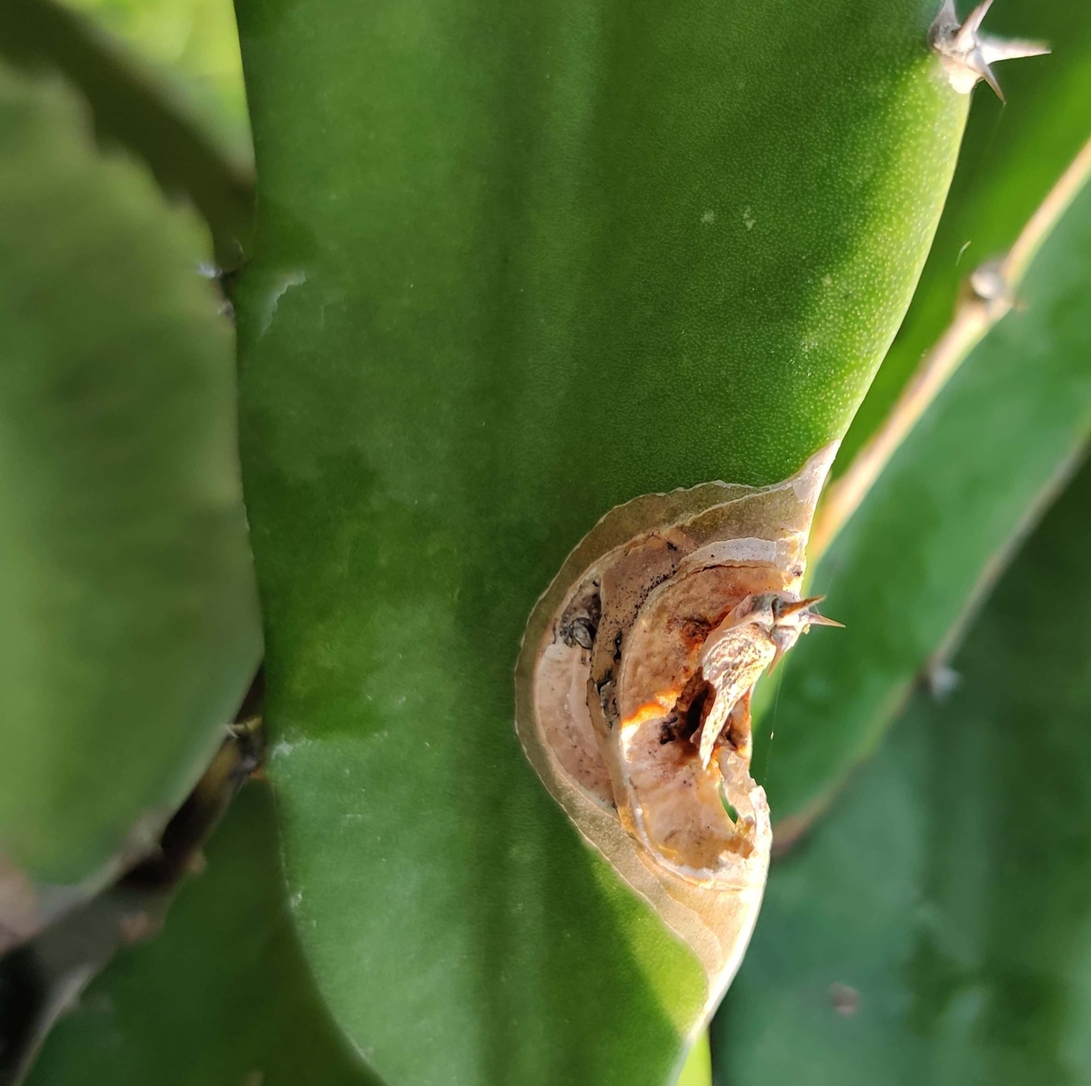stemcanker: (511, 437, 841, 982)
